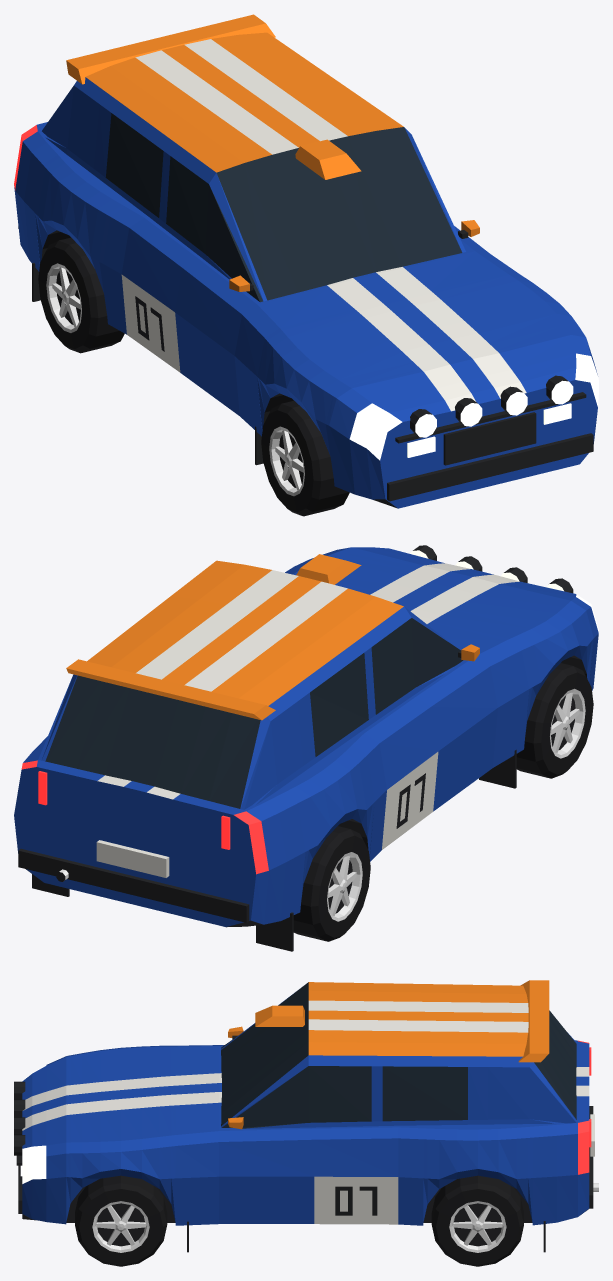
Rendered from rally-car-01.glb.
3 views of the same model, one above another, from view 1: azimuth 30°, elevation 25°; view 2: azimuth 150°, elevation 25°; view 3: azimuth 270°, elevation 25° (orthographic). The views are drawn at different scales.
Parts seen in each view (by area): view 1: Body, Wheel_FR, Wheel_RR; view 2: Body, Wheel_RR, Wheel_FR; view 3: Body, Wheel_FL, Wheel_RL.
Boxes of the visible parts, x1,y1,x2,y2 form: Body: (14,14,598,508); Wheel_FR: (261,400,349,516); Wheel_RR: (38,237,124,353); Body: (14,545,598,951); Wheel_RR: (293,826,370,941); Wheel_FR: (516,663,593,778); Body: (14,980,598,1252); Wheel_FL: (75,1175,167,1266); Wheel_RL: (431,1175,523,1266).
Size of the model in its own units: 1.86 by 1.6 by 4.18.
